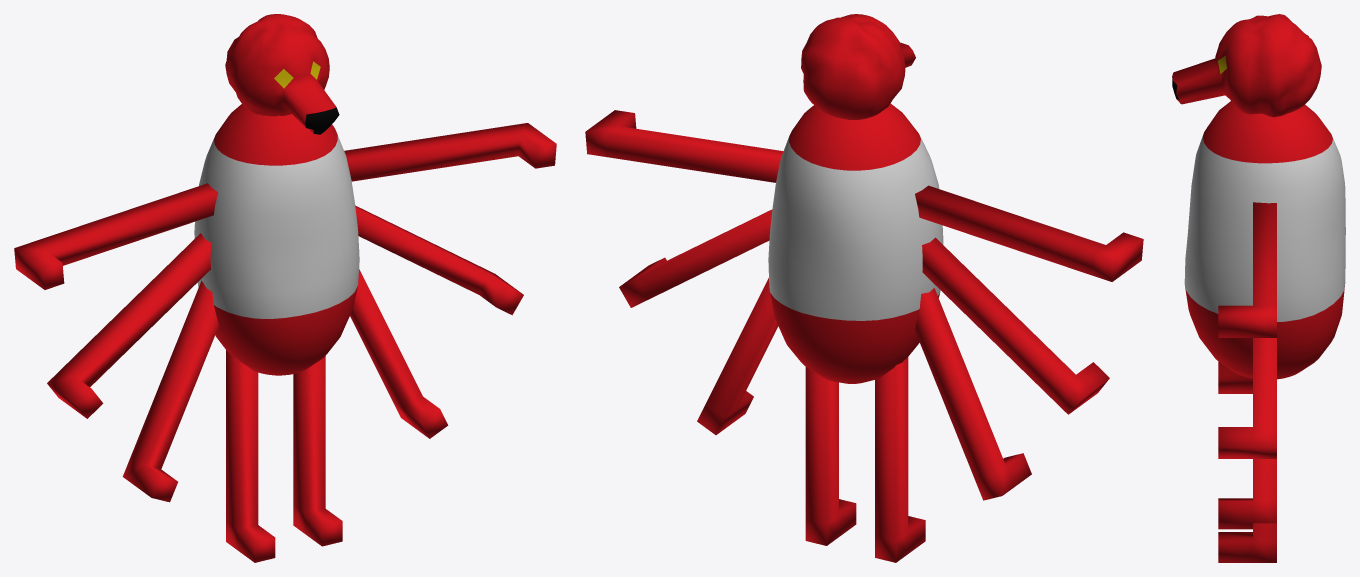
File: WheelMovecd.fbx
3 views of the same model, side by side, from view 1: azimuth 30°, elevation 25°; view 2: azimuth 150°, elevation 25°; view 3: azimuth 270°, elevation 25° (orthographic). The views are drawn at different scales.
Parts seen in each view (by area): view 1: Cube.001; view 2: Cube.001; view 3: Cube.001.
Part boxes in pixels (x1,y1,x2,y2): Cube.001: (14, 14, 556, 562); Cube.001: (585, 14, 1143, 562); Cube.001: (1172, 14, 1345, 562).
Bounding box in the file's own units: 1128 × 1077 × 323.
